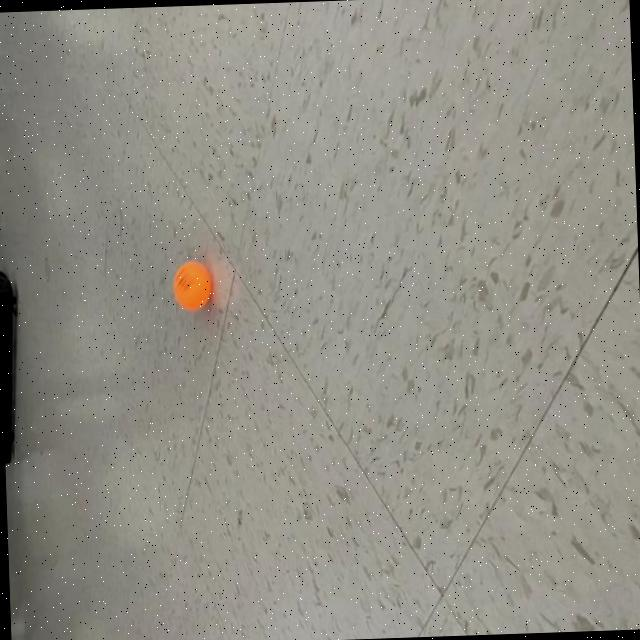ping-pong-ball: (167, 254, 214, 314)
